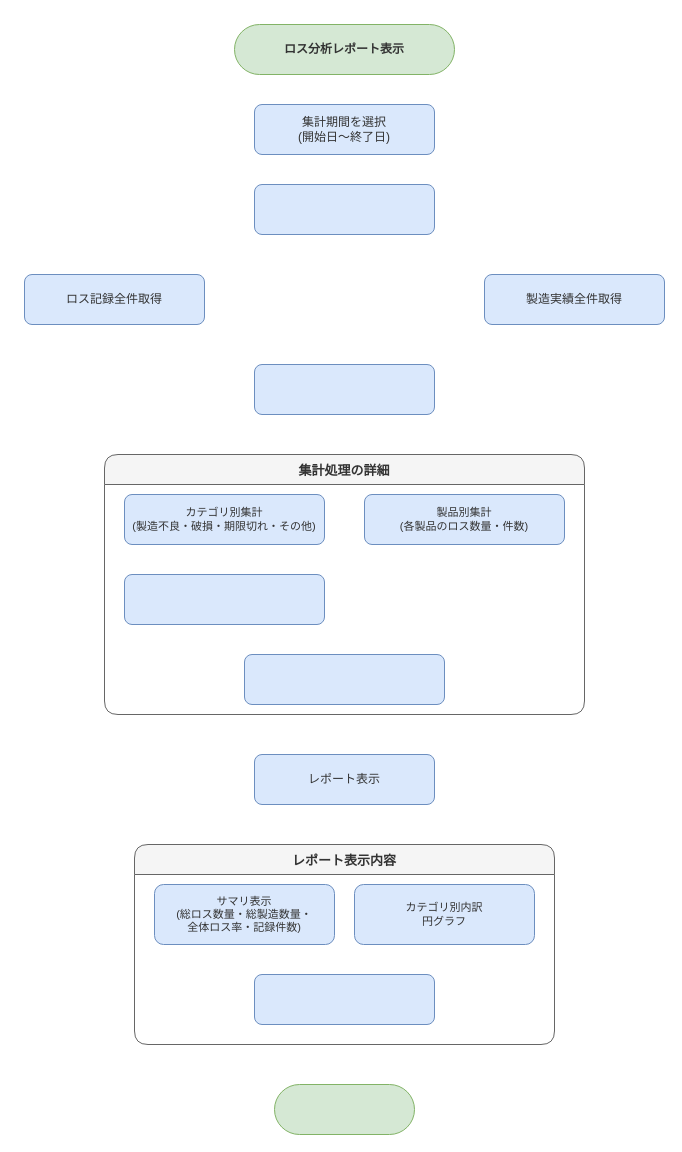
The diagram is 682 pixels wide and 1152 high, and some of its shapes have lost their labels. Here are the shapes that lost their labels. From the top down, the centre of each, then its label:
the point at 344,209: データ取得
the point at 344,389: 集計処理
the point at 224,599: 全体集計 (総ロス数量・総製造数量)
the point at 344,679: 全体ロス率算出 = 総ロス / 総製造 × 100
the point at 344,999: 製品別ロス一覧 テーブル
the point at 344,1109: 終了
